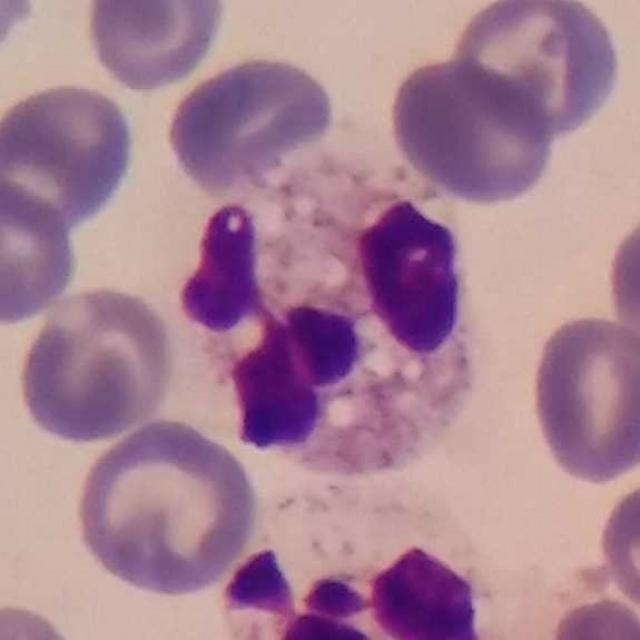Neutrophil: (159, 160, 504, 499), (204, 488, 512, 640)
RBC: (69, 413, 263, 600), (10, 280, 181, 447), (384, 54, 560, 208), (161, 49, 343, 197), (444, 0, 627, 142), (0, 77, 140, 231), (524, 310, 640, 487), (78, 0, 230, 93), (0, 175, 82, 328), (593, 473, 640, 619), (601, 202, 640, 368), (542, 593, 640, 640), (0, 595, 86, 640), (0, 0, 42, 62)
